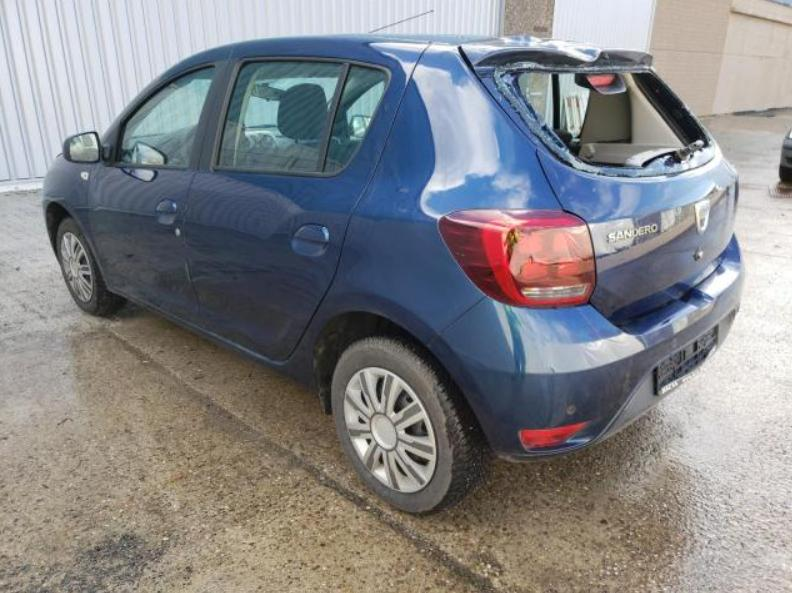Back-bumper: (428, 232, 749, 465)
Back-door: (183, 38, 431, 363)
Back-wheel: (328, 328, 497, 518)
Back-window: (216, 61, 343, 172), (323, 65, 388, 172)
Fender: (40, 153, 108, 290)
Front-door: (86, 45, 236, 328)
Front-wheel: (55, 216, 129, 317)
Front-window: (119, 66, 215, 167)
Mirror: (61, 130, 118, 167)
Quarter-panel: (306, 178, 561, 367)
Rocker-panel: (106, 283, 318, 392)
Roof: (304, 34, 500, 46)
Tail-light: (439, 209, 597, 309)
Trunk: (460, 32, 742, 327)
